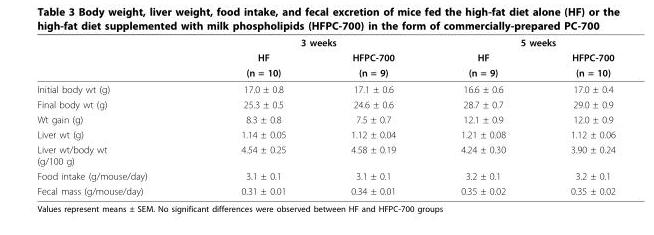table: (36, 36, 614, 196)
table column: (36, 36, 193, 196), (193, 36, 317, 196), (317, 36, 427, 196), (427, 36, 537, 196), (537, 36, 614, 196)
table column header: (36, 36, 614, 80)
table row: (36, 141, 614, 168), (36, 64, 614, 80), (36, 80, 614, 96), (36, 49, 614, 64), (36, 96, 614, 111), (36, 111, 614, 126), (36, 126, 614, 141), (36, 168, 614, 183), (36, 36, 614, 49), (36, 183, 614, 196)
table spanning cell: (193, 49, 317, 80), (317, 49, 427, 80), (427, 49, 537, 80), (193, 36, 427, 49), (427, 36, 614, 49), (537, 49, 614, 80)
